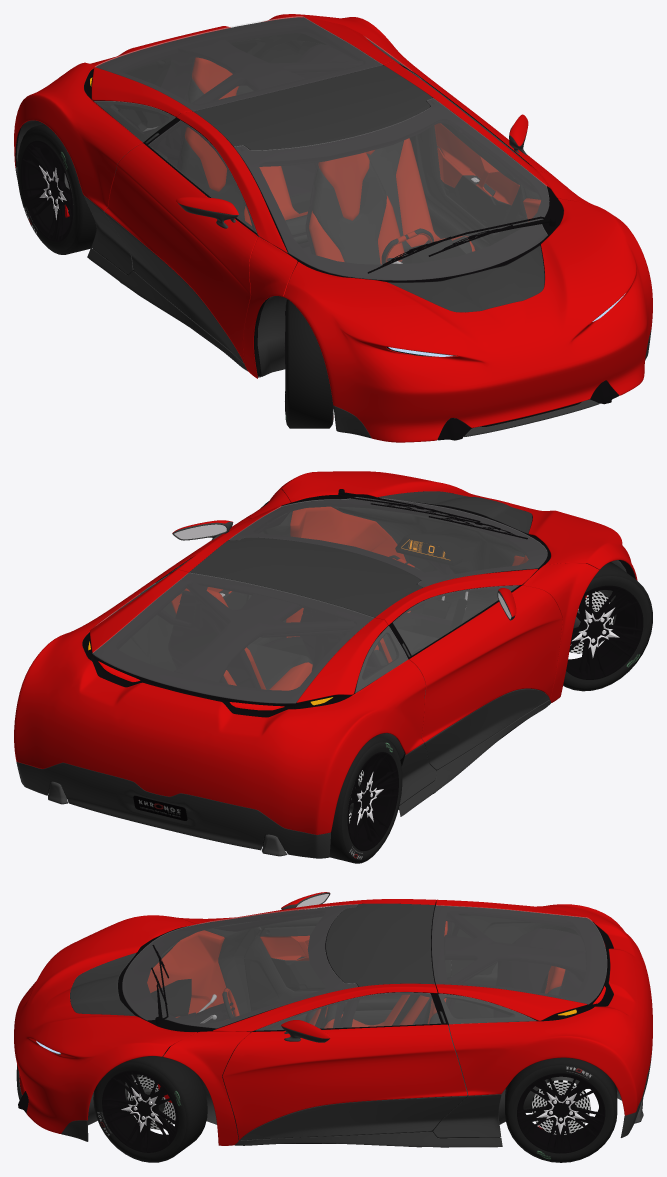
The model's file is CarConcept.gltf.
3 renders of one model, top to bottom at view 1: azimuth 30°, elevation 25°; view 2: azimuth 150°, elevation 25°; view 3: azimuth 270°, elevation 25°, orthographic. The views are drawn at different scales.
Visible parts, largest first — view 1: BodyHood, BodyWindshield, BodyRearwindow, BodyDoorRColor1, BodyRearPanelsColor1, BodyRoofPanel, BodyWindshieldGasket, InteriorSeatsColor1, InteriorSeatsColor2, BodyPillars, InteriorPillar, InteriorRearHatch (+21 smaller); view 2: BodyRearPanelsColor1, BodyRearwindow, BodyWindshield, BodyDoorRColor1, BodyPanelsColor2, BodyRoofPanel, BodyHood, InteriorRearHatch, BodyPillars, InteriorPillar, BodyWindshieldGasket, InteriorDashMid (+22 smaller); view 3: BodyRearPanelsColor1, BodyWindshield, BodyDoorLColor1, BodyHood, BodyRearwindow, BodyRoofPanel, BodyPillars, BodyWindshieldGasket, BodyDoorLColor2, BodyPanelsColor2, WheelFrontL, InteriorRearHatch (+25 smaller).
Boxes of the visible parts, x1,y1,x2,y2 form: BodyHood: [283, 198, 652, 442]; BodyWindshield: [234, 98, 549, 280]; BodyRearwindow: [95, 16, 382, 110]; BodyDoorRColor1: [104, 143, 257, 362]; BodyRearPanelsColor1: [14, 14, 428, 210]; BodyRoofPanel: [193, 65, 432, 150]; BodyWindshieldGasket: [234, 99, 563, 282]; InteriorSeatsColor1: [185, 57, 475, 264]; InteriorSeatsColor2: [180, 78, 472, 264]; BodyPillars: [176, 61, 598, 378]; InteriorPillar: [158, 37, 434, 168]; InteriorRearHatch: [93, 17, 383, 117]; BodyRearPanelsColor1: [14, 569, 425, 834]; BodyRearwindow: [92, 573, 373, 703]; BodyWindshield: [229, 497, 547, 587]; BodyDoorRColor1: [409, 585, 562, 742]; BodyPanelsColor2: [16, 700, 550, 858]; BodyRoofPanel: [189, 537, 422, 617]; BodyHood: [279, 471, 637, 580]; InteriorRearHatch: [93, 573, 386, 707]; BodyPillars: [175, 489, 599, 702]; InteriorPillar: [174, 574, 417, 682]; BodyWindshieldGasket: [230, 497, 550, 587]; InteriorDashMid: [331, 503, 528, 622]; BodyRearPanelsColor1: [436, 899, 652, 1115]; BodyWindshield: [122, 904, 357, 1028]; BodyDoorLColor1: [222, 1024, 467, 1139]; BodyHood: [14, 915, 196, 1133]; BodyRearwindow: [432, 905, 606, 1003]; BodyRoofPanel: [326, 903, 434, 986]; BodyPillars: [163, 899, 437, 1145]; BodyWindshieldGasket: [118, 905, 357, 1032]; BodyDoorLColor2: [240, 1096, 467, 1140]; BodyPanelsColor2: [16, 1050, 652, 1147]; WheelFrontL: [93, 1054, 207, 1162]; InteriorRearHatch: [431, 905, 606, 1020].
Size of the model in its own units: 2.54 by 1.15 by 4.36.
Materials: 23 (6 with a texture image).
